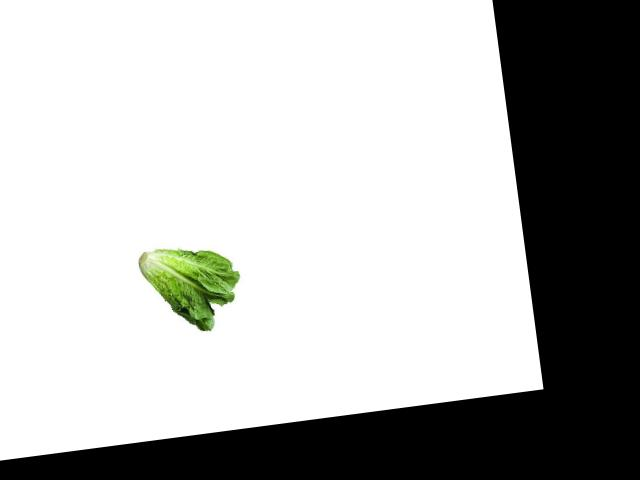lettuce: (139, 234, 246, 343)
